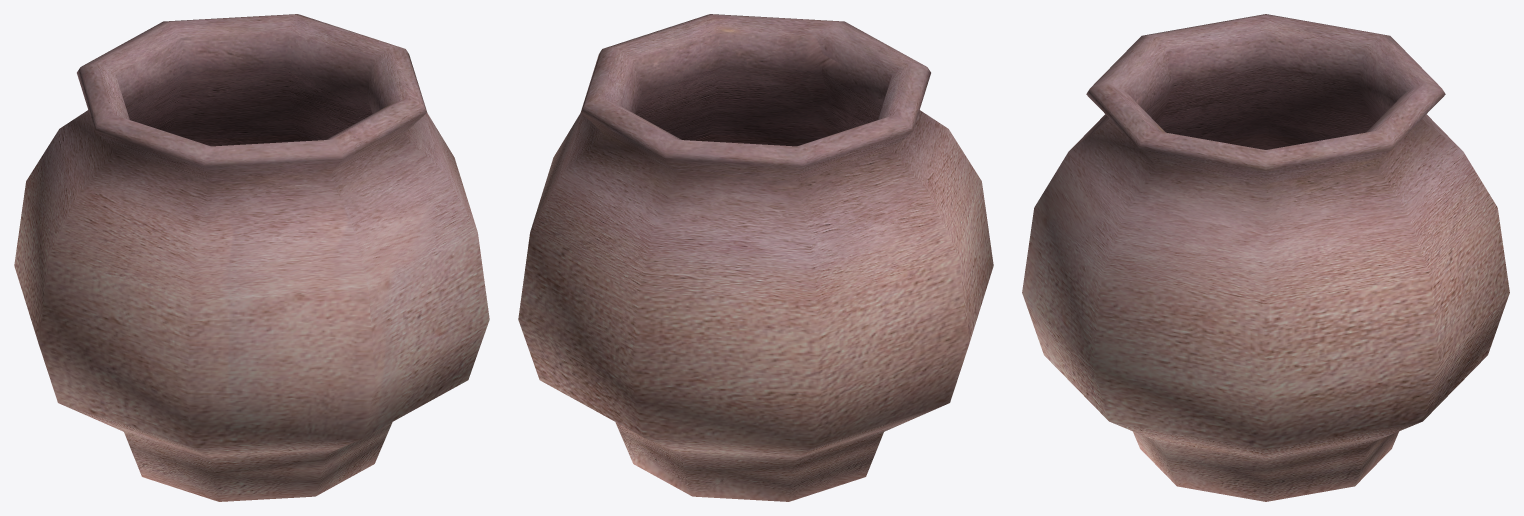
File: mug.fbx
3 renders of one model, left to right at view 1: azimuth 30°, elevation 25°; view 2: azimuth 150°, elevation 25°; view 3: azimuth 270°, elevation 25°, orthographic.
Visible parts, largest first — view 1: mug; view 2: mug; view 3: mug.
Part boxes in pixels (x1,y1,x2,y2): mug: [14, 14, 489, 501]; mug: [518, 14, 993, 501]; mug: [1022, 14, 1509, 501].
Size of the model in its own units: 79.72 by 67.37 by 79.72.
